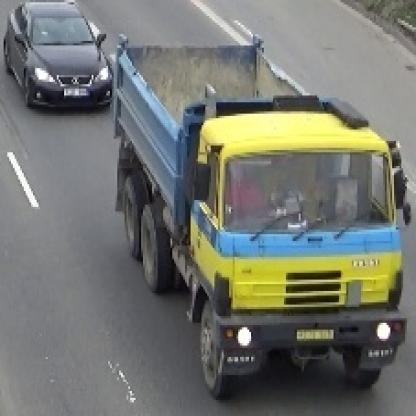truck: (106, 30, 415, 399)
